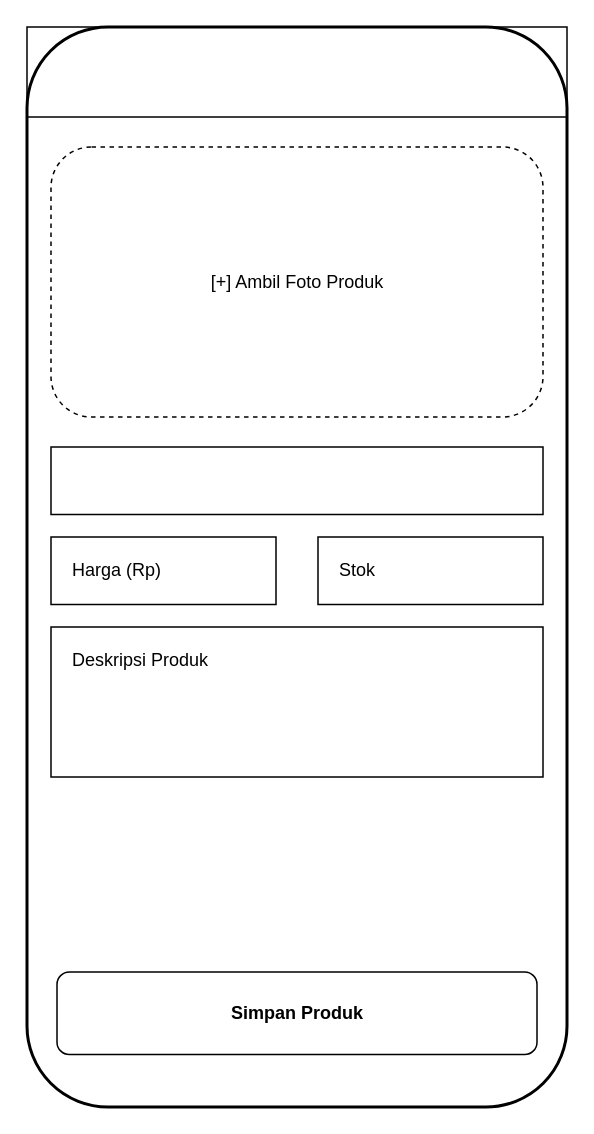
Some shapes in this 594 by 1134 pixel diagram are drawn without their labels. Each missing label, with the centre of its shape:
Nama Produk: point (296, 480)
Tambah/Edit Produk: point (296, 71)
